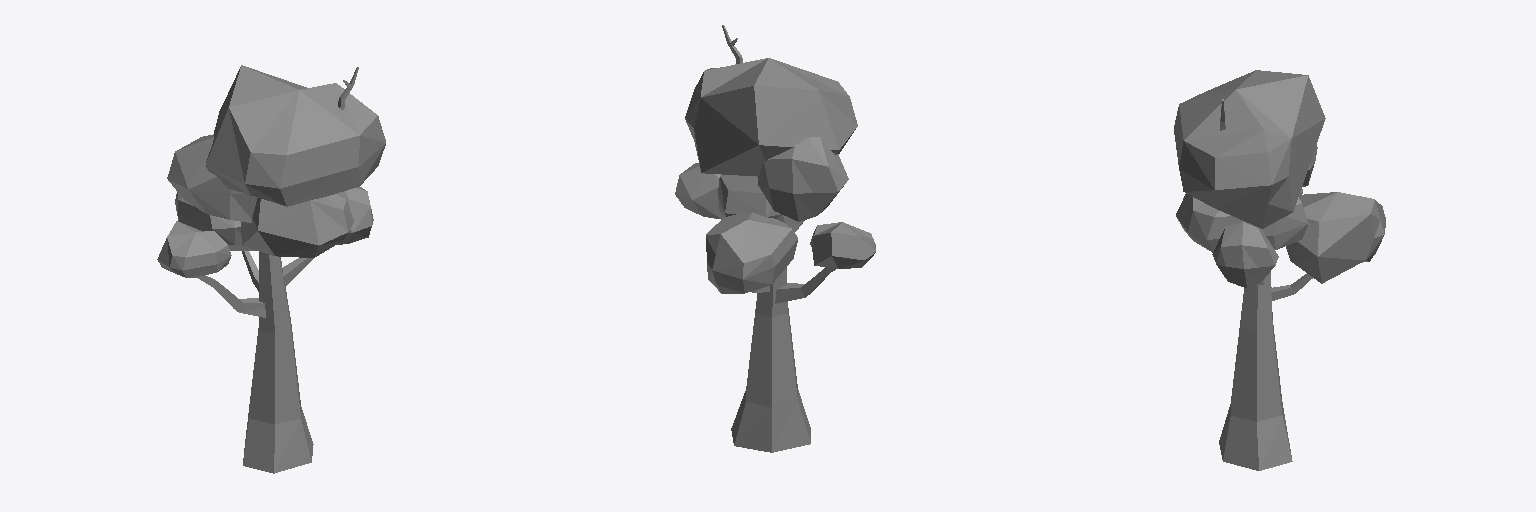
File: tree_03.obj
3 views of the same model, side by side, from view 1: azimuth 30°, elevation 25°; view 2: azimuth 150°, elevation 25°; view 3: azimuth 270°, elevation 25° (orthographic).
Size of the model in its own units: 2.57 by 4.82 by 2.42.